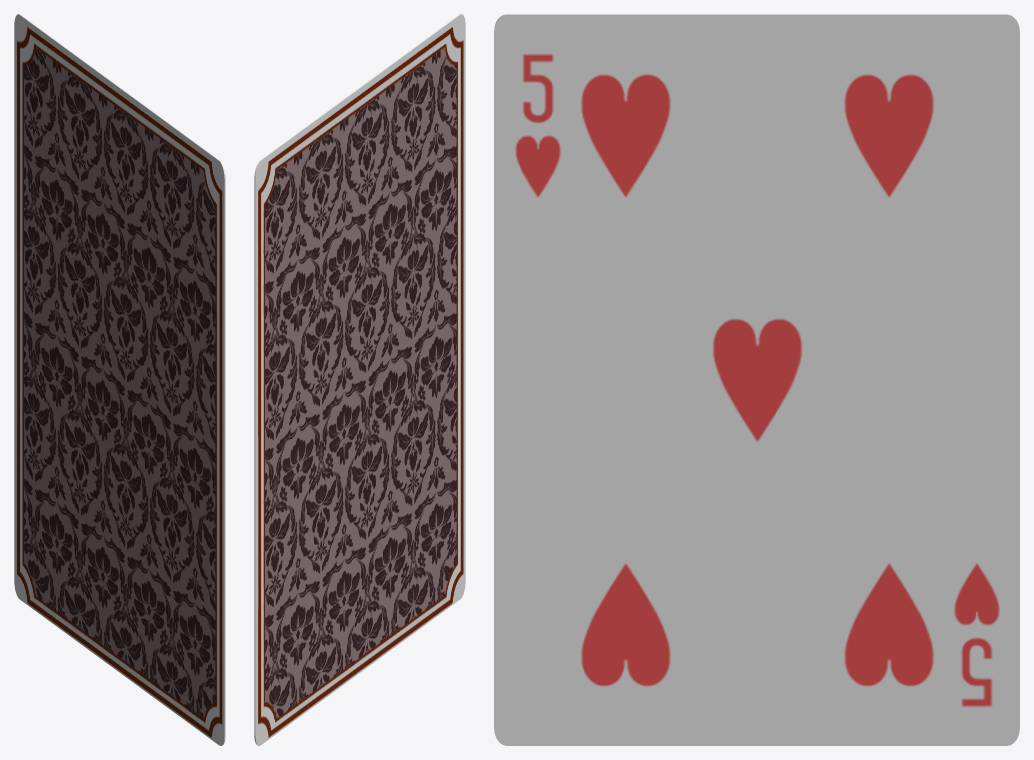
The model's file is heart5.glb.
The picture shows the model from 3 angles, left to right: view 1: azimuth 30°, elevation 25°; view 2: azimuth 150°, elevation 25°; view 3: azimuth 270°, elevation 25°; orthographic projection. The views are drawn at different scales.
Parts seen in each view (by area): view 1: Cube; view 2: Cube; view 3: Cube.
Boxes of the visible parts, x1,y1,x2,y2 form: Cube: (14, 14, 225, 745); Cube: (254, 14, 465, 745); Cube: (494, 14, 1019, 745).
Size of the model in its own units: 0.036 by 17.8 by 11.6.
Materials: 1 (1 with a texture image).
